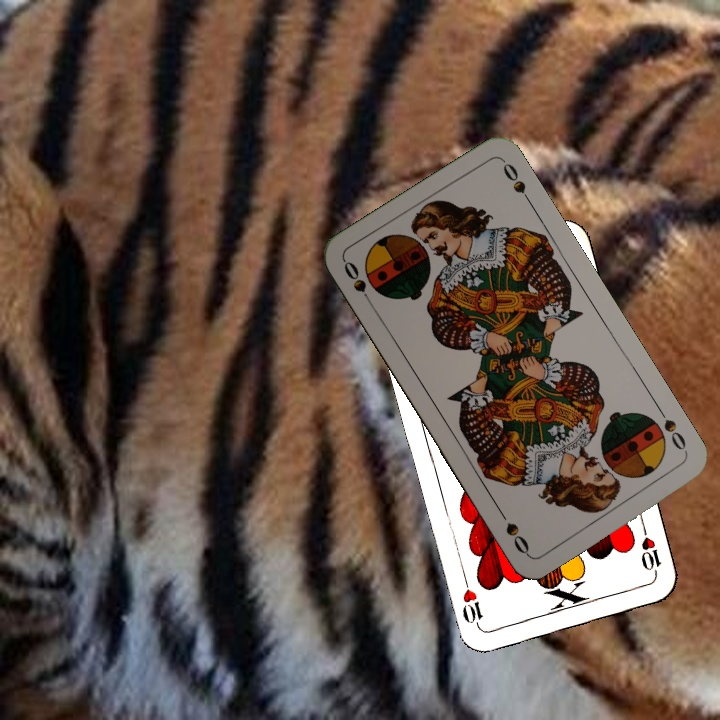H10: (637, 521, 663, 580)
SO: (339, 256, 377, 311), (653, 403, 690, 457)
